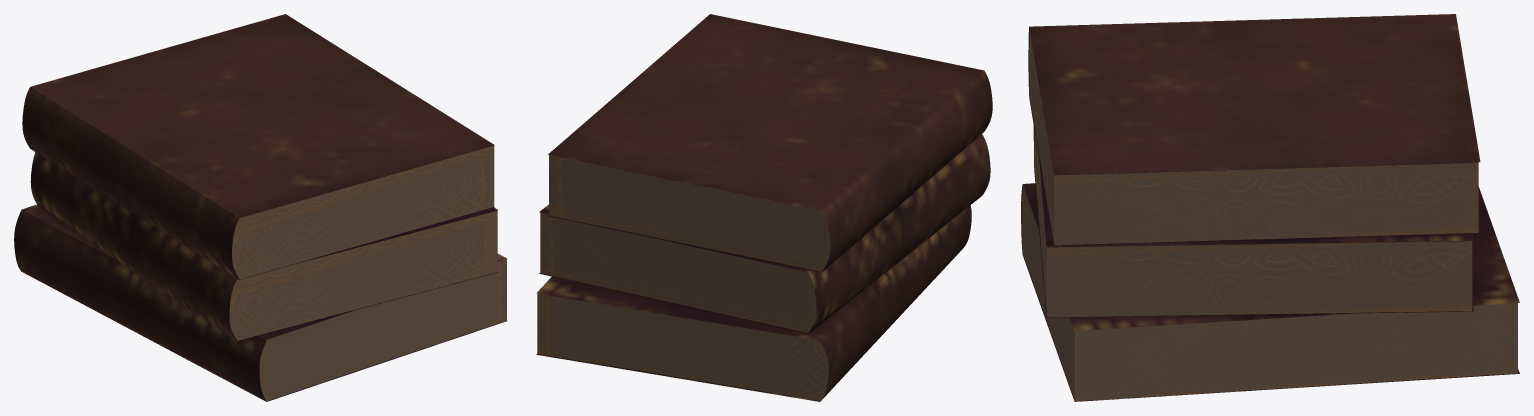
File: SM_BookPile15.fbx
3 renders of one model, left to right at view 1: azimuth 30°, elevation 25°; view 2: azimuth 150°, elevation 25°; view 3: azimuth 270°, elevation 25°, orthographic. The views are drawn at different scales.
Parts seen in each view (by area): view 1: SM_BookPile15_LOD0; view 2: SM_BookPile15_LOD0; view 3: SM_BookPile15_LOD0.
Boxes of the visible parts, x1,y1,x2,y2 form: SM_BookPile15_LOD0: (14,14,507,401); SM_BookPile15_LOD0: (536,14,992,401); SM_BookPile15_LOD0: (1021,14,1519,401).
Size of the model in its own units: 39.47 by 46.29 by 21.97.
Materials: 1 (1 with a texture image).
